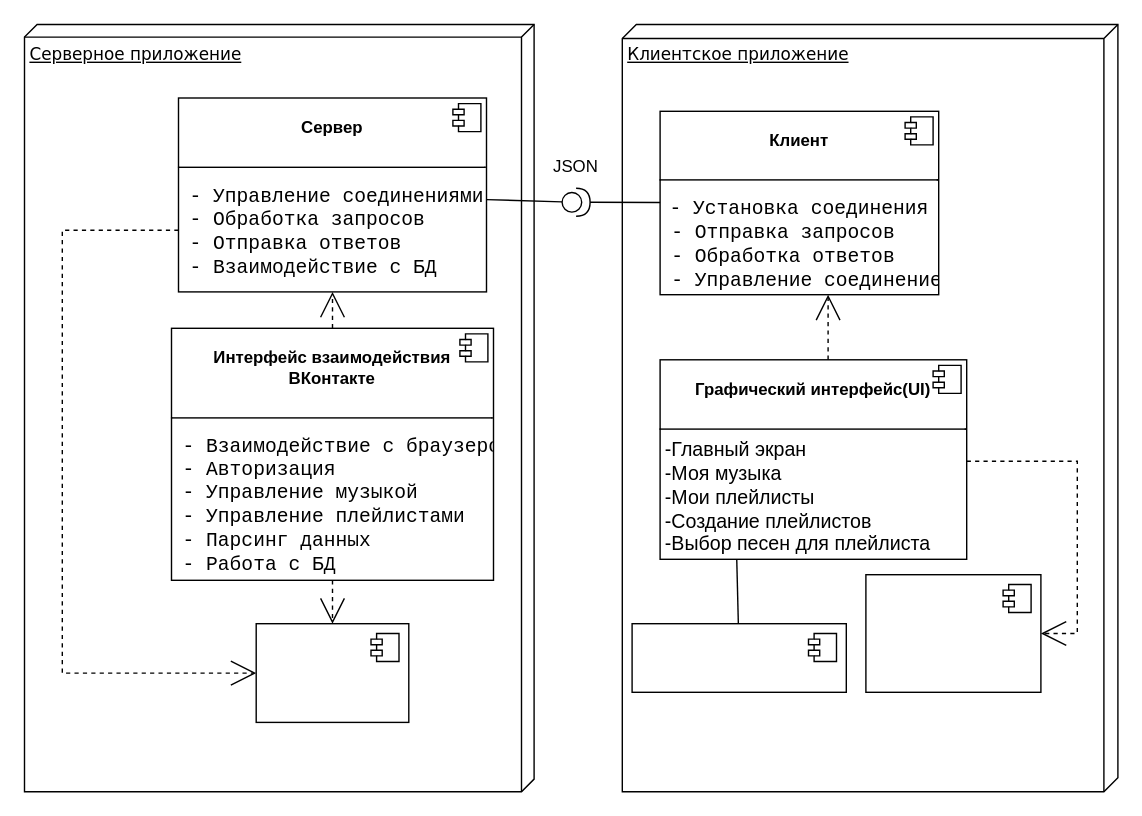
Image size: 1142x816. Some labels were removed from this diagram. Here are the shapes that lost their labels. From the top down, the centre of each, then its label:
(x=952, y=632): Временная база данных
(x=332, y=672): База данных
(x=738, y=657): Логика клиента
